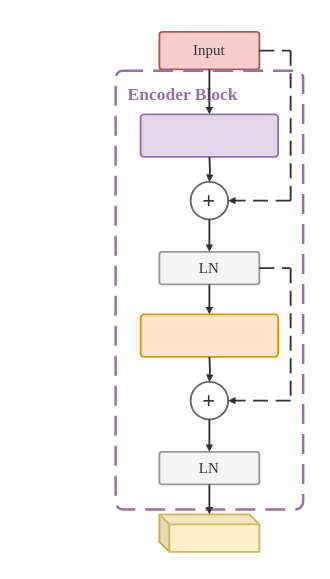
Image size: 330x579. Some labels were removed from this diagram. Each missing label, with the centre of its shape:
Feed Forward: the point at 208,335
Multi-Head Attn: the point at 208,135
Output: the point at 209,532
